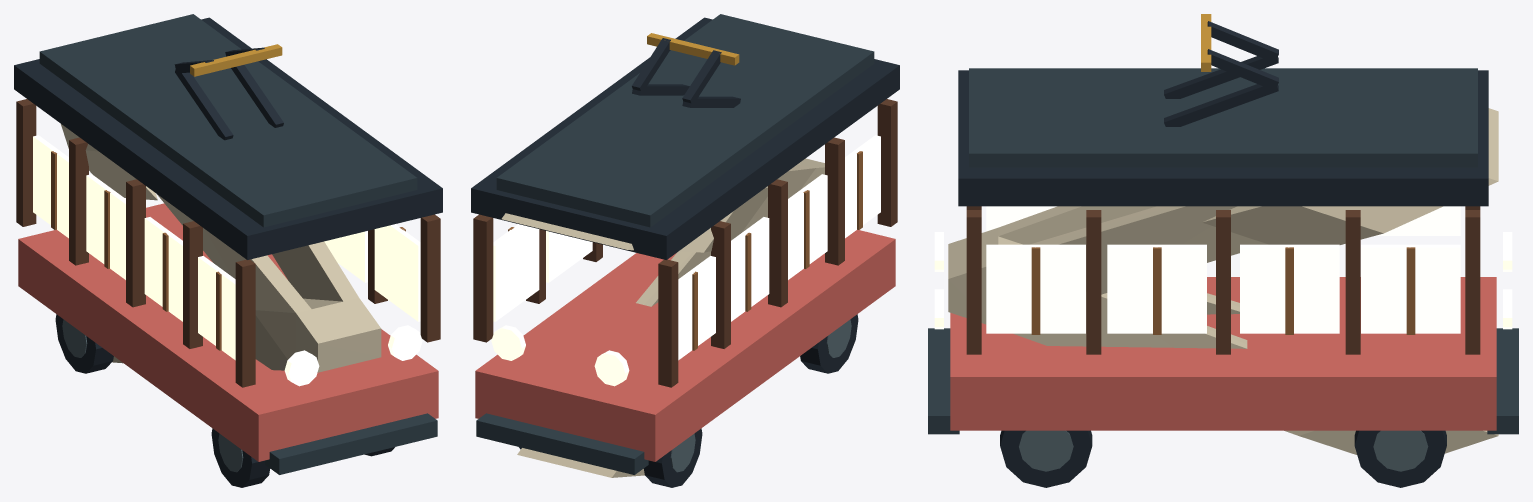
The model's file is salvage-tram.glb.
3 views of the same model, side by side, from view 1: azimuth 30°, elevation 25°; view 2: azimuth 150°, elevation 25°; view 3: azimuth 270°, elevation 25° (orthographic). The views are drawn at different scales.
Parts seen in each view (by area): view 1: salvage-tram; view 2: salvage-tram; view 3: salvage-tram.
Part boxes in pixels (x1,y1,x2,y2): salvage-tram: (14, 14, 442, 487); salvage-tram: (471, 14, 899, 487); salvage-tram: (928, 14, 1518, 487).
Size of the model in its own units: 1.8 by 3.13 by 4.1.
